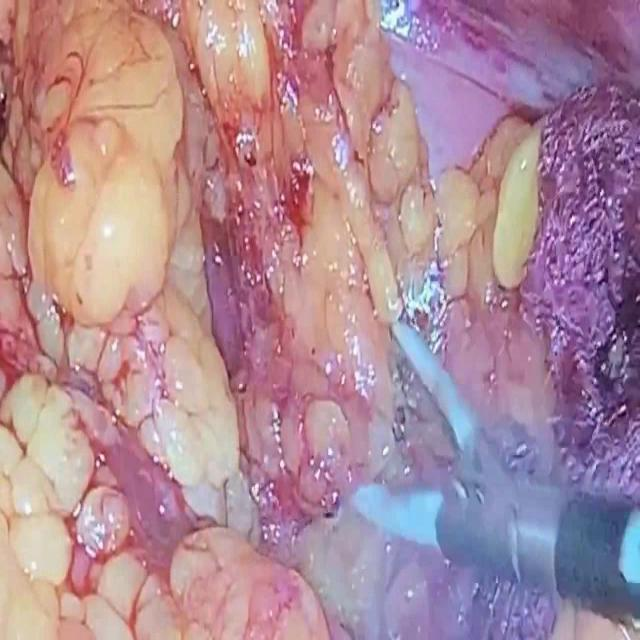surgical-tool: (348, 323, 640, 620)
